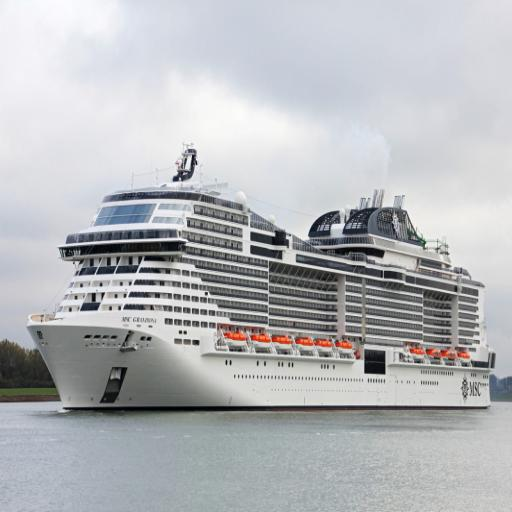cruises: (26, 143, 498, 422)
